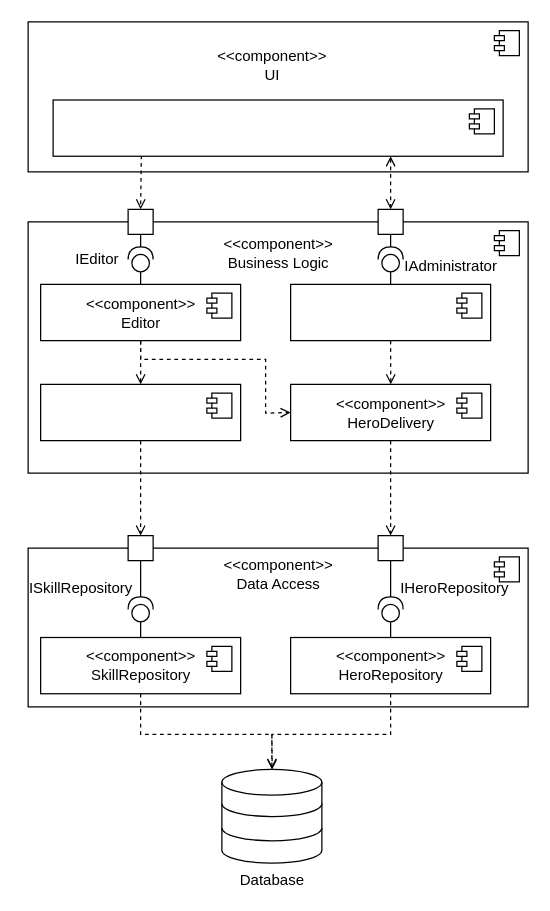
Image size: 550x911. Some labels were removed from this diagram. The box of each missing label's shape, as (x1, y1, x2, y2) in pixels:
<<component>> Administrator: (289, 283, 491, 341)
<<component>> React: (52, 99, 503, 156)
<<component>> SkillDelivery: (39, 383, 241, 441)
